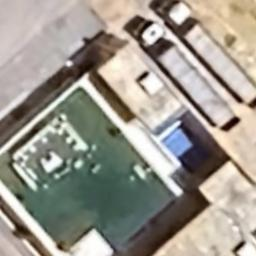truck: (131, 18, 242, 132), (151, 0, 256, 108)
